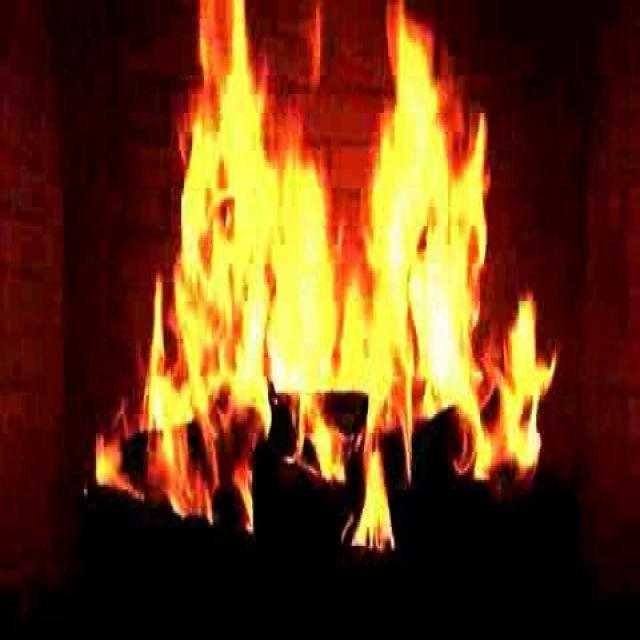Fire: (142, 0, 546, 544)
